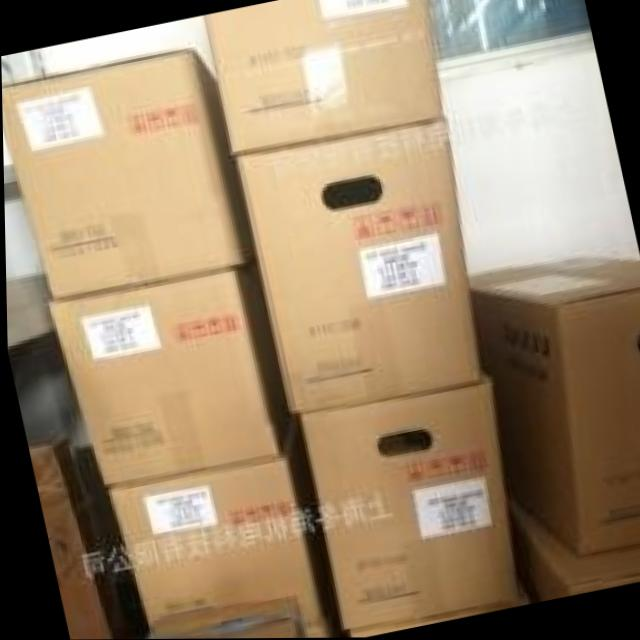box: (234, 118, 479, 415), (2, 50, 259, 299), (296, 381, 514, 630), (105, 413, 343, 638), (50, 265, 288, 487), (469, 256, 640, 557), (203, 0, 444, 155), (505, 497, 640, 600), (146, 597, 303, 639)
